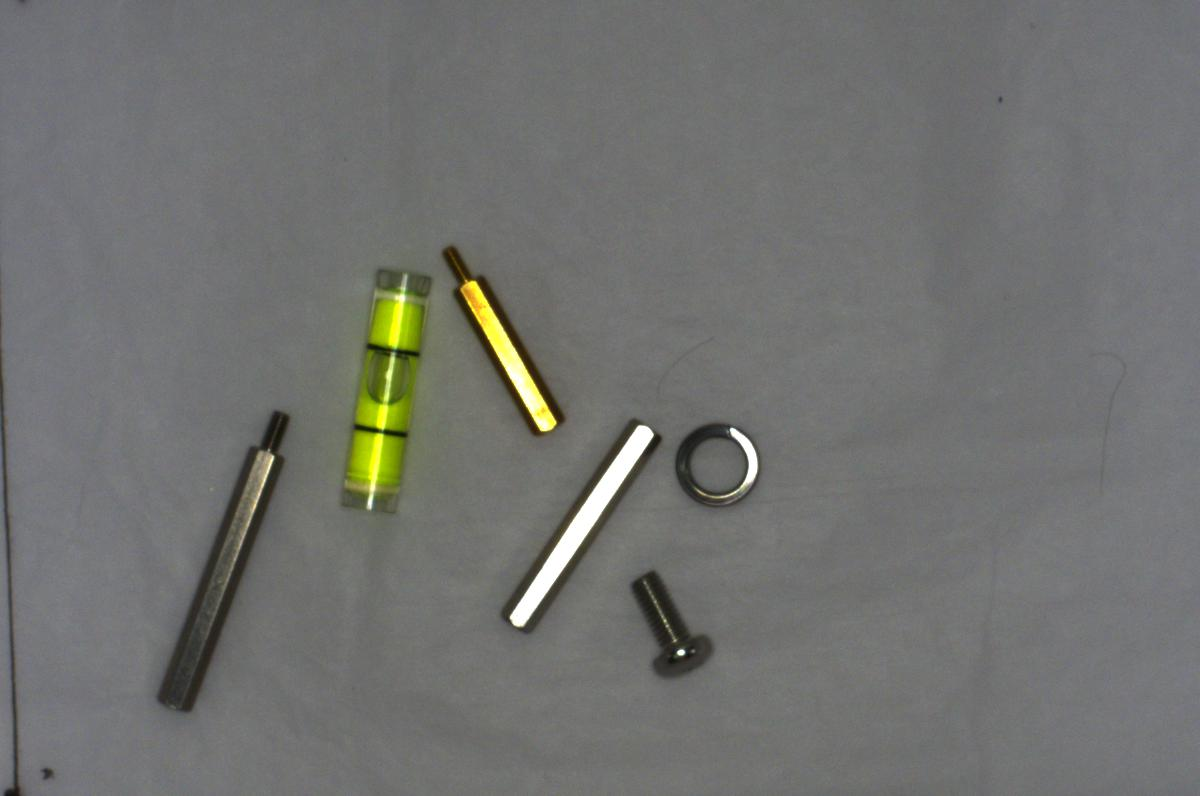Double hexagonal column: (495, 410, 664, 638)
Hexagon pillar: (435, 238, 568, 443)
Hexagonal steel column: (155, 398, 297, 714)
Horizontal bubble: (333, 263, 437, 520)
Round head screw: (620, 561, 719, 681)
Spring washer: (672, 419, 765, 513)
